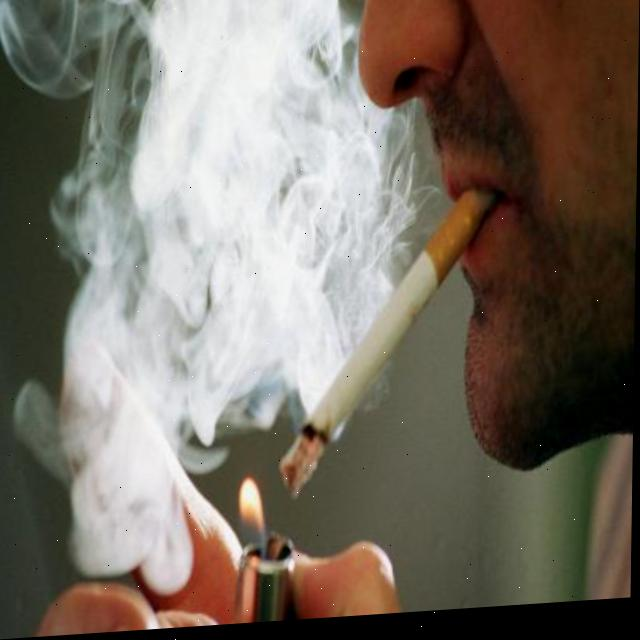cigarette: (281, 188, 494, 503)
